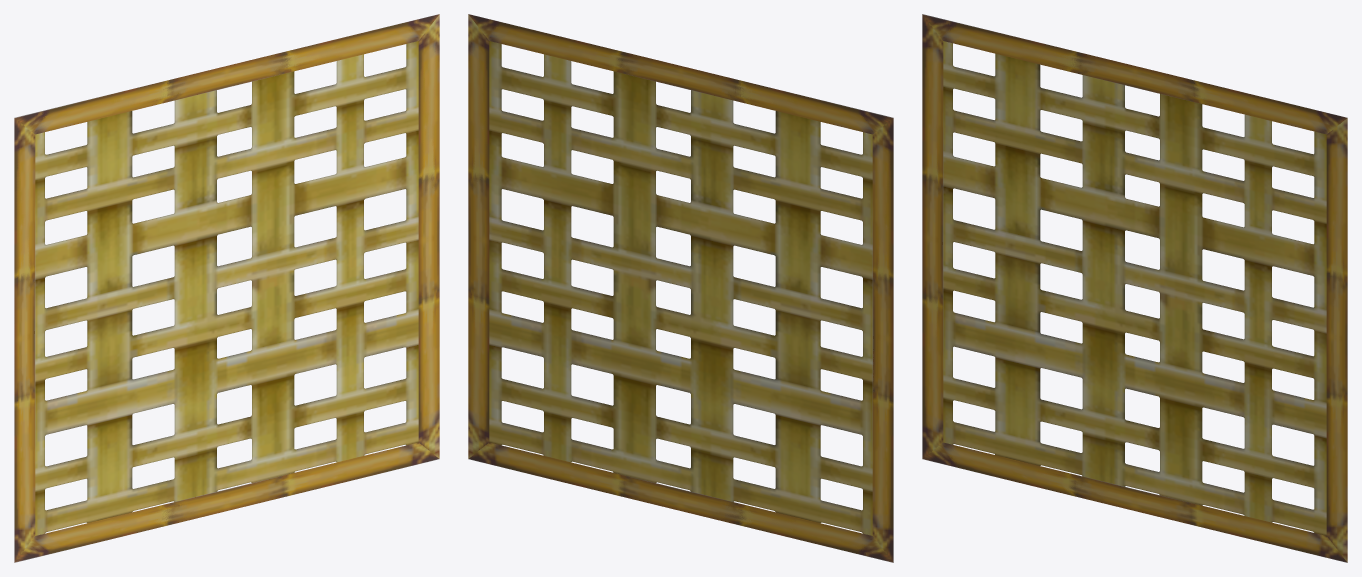
File: bamboofence_revolve_inner.dae
The picture shows the model from 3 angles, left to right: view 1: azimuth 30°, elevation 25°; view 2: azimuth 150°, elevation 25°; view 3: azimuth 330°, elevation 25°; orthographic projection.
Parts seen in each view (by area): view 1: m1, m0; view 2: m1, m0; view 3: m1, m0.
Boxes of the visible parts, x1,y1,x2,y2 form: m1: (35, 41, 418, 535); m0: (14, 14, 439, 562); m1: (489, 41, 872, 535); m0: (468, 14, 893, 562); m1: (943, 41, 1326, 535); m0: (922, 14, 1347, 562).
Size of the model in its own units: 400 by 400 by 0.
Materials: 2 (2 with a texture image).
